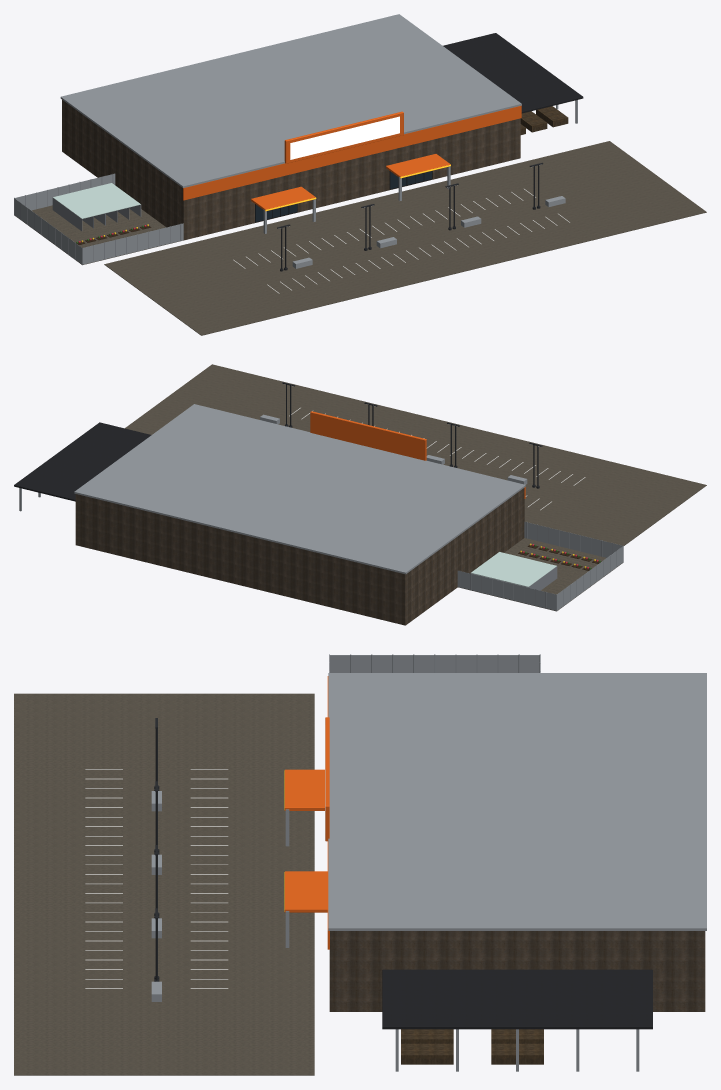
Rendered from OT_HardwareStore_A.glb.
3 renders of one model, top to bottom at view 1: azimuth 30°, elevation 25°; view 2: azimuth 150°, elevation 25°; view 3: azimuth 270°, elevation 25°, orthographic. The views are drawn at different scales.
Visible parts, largest first — view 1: OT_HardwareStore_A_Pavement, OT_HardwareStore_A_SteelGrey__9aa0a6, OT_HardwareStore_A_Block, OT_HardwareStore_A_HWOrange__f26b1d, OT_HardwareStore_A_Corrugated, OT_HardwareStore_A_ChainLink__9aa0a6, OT_HardwareStore_A_SignWhiteGlow__f4f8ff, OT_HardwareStore_A_GreenhouseGlass__cfe6e0, OT_HardwareStore_A_Fence__8a8f96, OT_HardwareStore_A_Wood.001, OT_HardwareStore_A_PoleDark__2a2c30, OT_HardwareStore_A_PaintWhite__f0f0ee (+2 smaller); view 2: OT_HardwareStore_A_SteelGrey__9aa0a6, OT_HardwareStore_A_Pavement, OT_HardwareStore_A_Block, OT_HardwareStore_A_Corrugated, OT_HardwareStore_A_ChainLink__9aa0a6, OT_HardwareStore_A_HWOrange__f26b1d, OT_HardwareStore_A_GreenhouseGlass__cfe6e0, OT_HardwareStore_A_Fence__8a8f96, OT_HardwareStore_A_PoleDark__2a2c30; view 3: OT_HardwareStore_A_Pavement, OT_HardwareStore_A_SteelGrey__9aa0a6, OT_HardwareStore_A_Block, OT_HardwareStore_A_Corrugated, OT_HardwareStore_A_HWOrange__f26b1d, OT_HardwareStore_A_ChainLink__9aa0a6, OT_HardwareStore_A_Wood.001, OT_HardwareStore_A_PaintWhite__f0f0ee, OT_HardwareStore_A_PoleDark__2a2c30, OT_HardwareStore_A_CartCorral__9aa0a6.
Boxes of the visible parts, <box> form: OT_HardwareStore_A_Pavement: <box>14,141,706,335</box>; OT_HardwareStore_A_SteelGrey__9aa0a6: <box>60,14,577,233</box>; OT_HardwareStore_A_Block: <box>62,100,520,240</box>; OT_HardwareStore_A_HWOrange__f26b1d: <box>183,105,521,211</box>; OT_HardwareStore_A_Corrugated: <box>443,33,583,113</box>; OT_HardwareStore_A_ChainLink__9aa0a6: <box>14,173,183,264</box>; OT_HardwareStore_A_SignWhiteGlow__f4f8ff: <box>290,116,399,159</box>; OT_HardwareStore_A_GreenhouseGlass__cfe6e0: <box>53,183,140,218</box>; OT_HardwareStore_A_Fence__8a8f96: <box>14,174,181,265</box>; OT_HardwareStore_A_Wood.001: <box>520,106,568,134</box>; OT_HardwareStore_A_PoleDark__2a2c30: <box>277,162,543,271</box>; OT_HardwareStore_A_PaintWhite__f0f0ee: <box>233,189,569,293</box>; OT_HardwareStore_A_SteelGrey__9aa0a6: <box>19,404,525,574</box>; OT_HardwareStore_A_Pavement: <box>125,364,706,611</box>; OT_HardwareStore_A_Block: <box>75,488,524,625</box>; OT_HardwareStore_A_Corrugated: <box>14,422,151,501</box>; OT_HardwareStore_A_ChainLink__9aa0a6: <box>457,521,623,610</box>; OT_HardwareStore_A_HWOrange__f26b1d: <box>310,411,525,498</box>; OT_HardwareStore_A_GreenhouseGlass__cfe6e0: <box>471,552,556,586</box>; OT_HardwareStore_A_Fence__8a8f96: <box>460,522,623,611</box>; OT_HardwareStore_A_PoleDark__2a2c30: <box>282,382,542,488</box>; OT_HardwareStore_A_Pavement: <box>14,693,314,1075</box>; OT_HardwareStore_A_SteelGrey__9aa0a6: <box>285,673,706,1071</box>; OT_HardwareStore_A_Block: <box>329,931,705,1011</box>; OT_HardwareStore_A_Corrugated: <box>382,969,652,1029</box>; OT_HardwareStore_A_HWOrange__f26b1d: <box>284,676,329,949</box>; OT_HardwareStore_A_ChainLink__9aa0a6: <box>330,655,540,672</box>; OT_HardwareStore_A_Wood.001: <box>401,1029,543,1064</box>; OT_HardwareStore_A_PaintWhite__f0f0ee: <box>85,769,228,988</box>; OT_HardwareStore_A_PoleDark__2a2c30: <box>154,718,159,981</box>; OT_HardwareStore_A_CartCorral__9aa0a6: <box>151,791,161,1001</box>.
Bounding box in the file's own units: 124 × 17.2 × 92.2.
23 materials, 5 textured.
